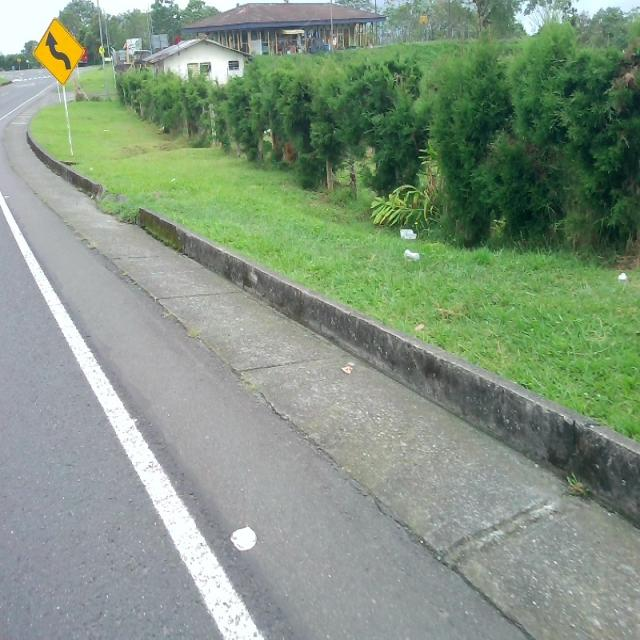DITCH: (5, 72, 638, 637)
